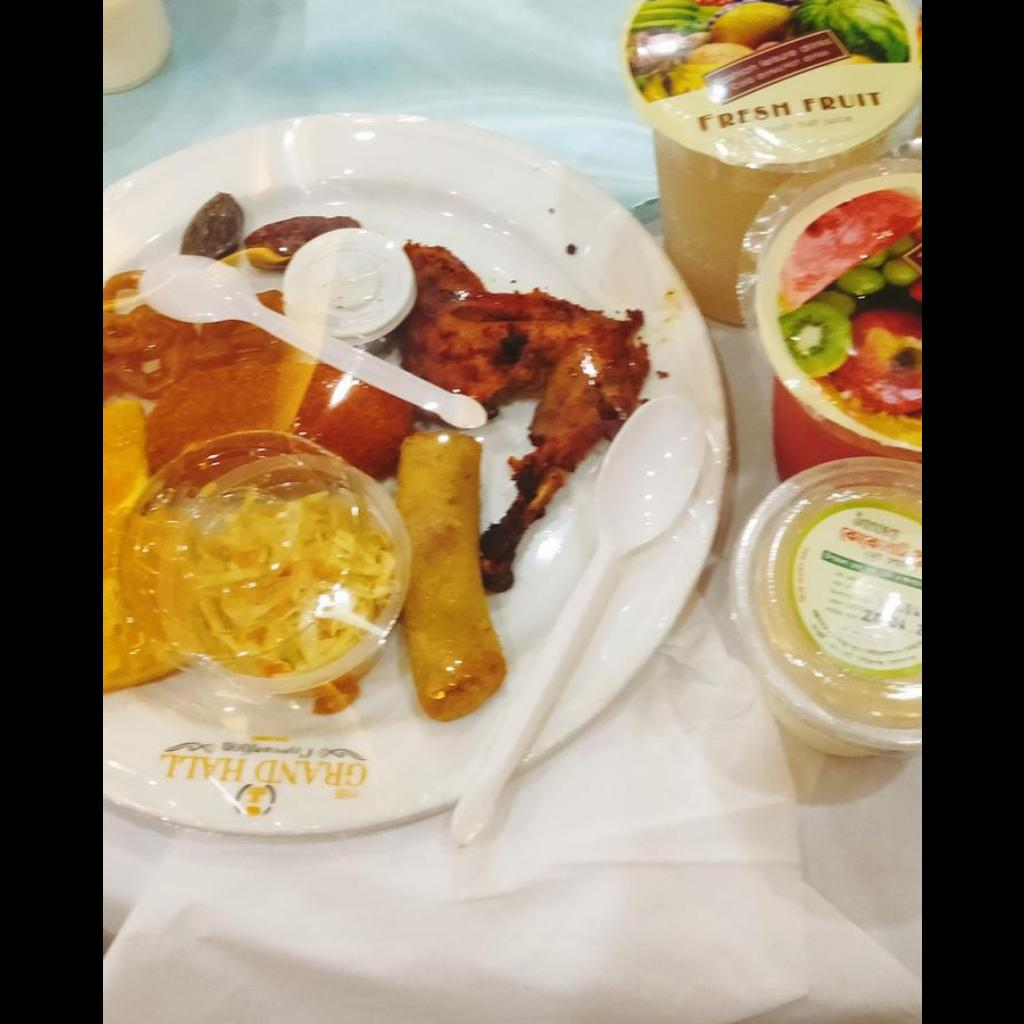chicken: (400, 246, 647, 577)
jilapi: (102, 273, 322, 474)
roll: (396, 432, 506, 720)
